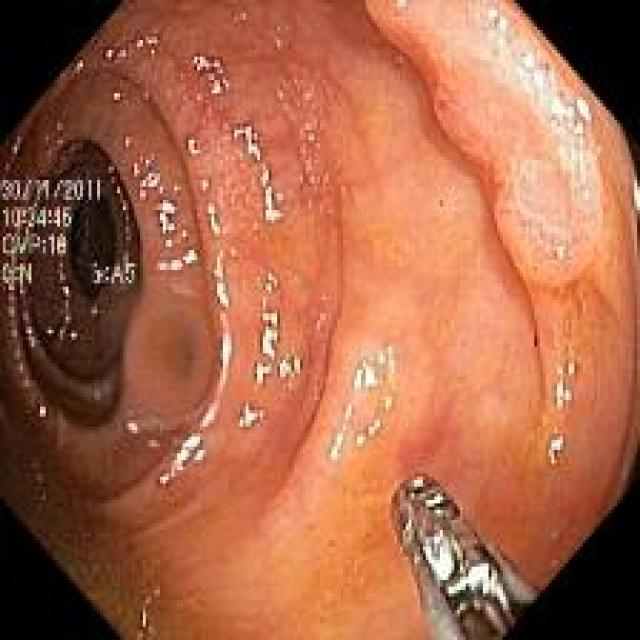Polyps: (368, 3, 604, 284)
